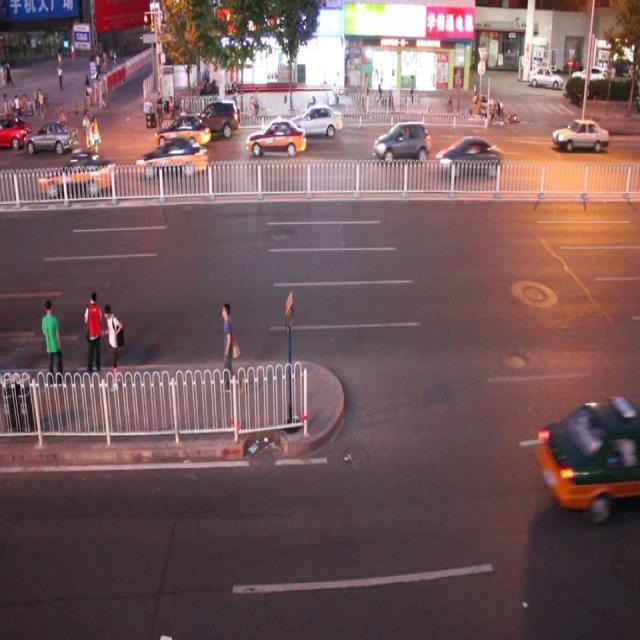car: (535, 394, 640, 519), (39, 150, 117, 193), (435, 134, 501, 178), (137, 137, 207, 177), (373, 121, 430, 163), (246, 118, 306, 156), (551, 116, 607, 154), (24, 120, 79, 154), (288, 104, 343, 138), (191, 100, 240, 137), (156, 114, 211, 146), (1, 113, 31, 148)
